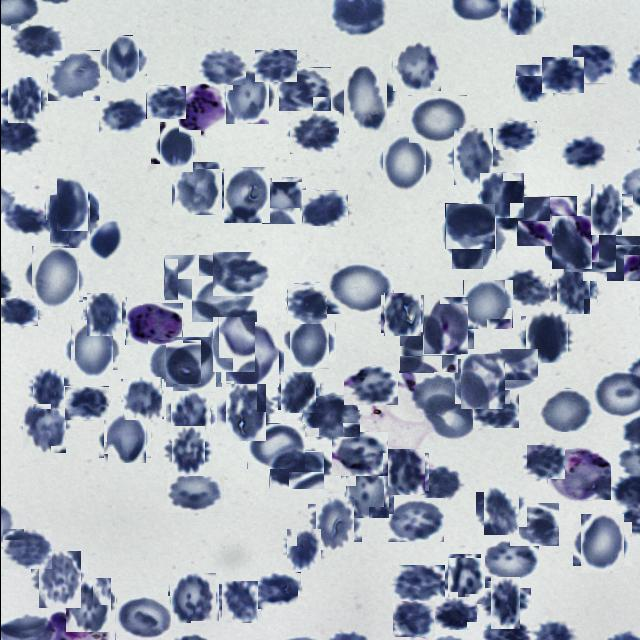difficult: (178, 84, 225, 137)
red blood cell: (326, 263, 393, 314), (222, 327, 280, 385), (26, 250, 82, 306), (337, 72, 392, 128), (191, 276, 256, 322), (163, 254, 225, 300), (407, 95, 466, 143), (416, 393, 476, 440), (470, 348, 537, 390), (448, 214, 500, 266), (46, 50, 99, 101), (246, 423, 304, 469), (581, 235, 639, 281), (378, 136, 429, 188), (576, 518, 627, 570), (221, 169, 272, 221), (391, 39, 442, 90), (480, 537, 538, 581), (212, 252, 269, 296), (222, 72, 272, 122), (66, 324, 116, 374), (173, 164, 223, 214), (18, 401, 68, 451), (168, 340, 218, 390), (62, 580, 112, 630), (34, 554, 84, 604), (456, 356, 506, 406), (398, 331, 457, 373), (387, 498, 443, 542), (331, 432, 387, 476), (114, 596, 170, 640), (301, 395, 359, 437), (462, 280, 512, 328), (208, 320, 258, 368), (166, 471, 223, 513), (538, 388, 592, 432), (342, 468, 391, 516), (277, 67, 330, 111), (147, 340, 200, 384), (284, 318, 332, 366), (168, 574, 216, 622), (449, 132, 497, 180), (221, 388, 269, 436), (444, 203, 494, 249), (100, 414, 148, 461), (523, 314, 570, 361), (548, 218, 594, 266), (288, 110, 338, 154), (563, 230, 615, 272), (46, 198, 92, 245), (391, 565, 444, 605), (311, 500, 357, 546), (509, 503, 558, 546), (343, 366, 397, 405), (268, 451, 323, 489), (10, 24, 64, 62), (1, 528, 51, 569), (479, 172, 523, 218), (168, 394, 213, 438), (260, 178, 304, 222), (98, 96, 148, 134), (479, 488, 522, 531), (50, 183, 93, 226), (443, 558, 487, 600), (198, 46, 245, 85), (412, 463, 459, 501), (559, 132, 606, 170), (154, 126, 196, 168), (384, 451, 426, 493), (166, 430, 208, 472), (410, 376, 459, 412), (504, 270, 550, 308), (120, 378, 162, 419), (552, 270, 592, 312), (484, 582, 524, 624), (586, 188, 626, 230), (301, 190, 347, 226), (286, 283, 326, 324), (381, 294, 422, 334), (256, 572, 300, 609), (102, 40, 142, 80), (3, 80, 43, 120), (572, 45, 614, 83), (472, 394, 518, 428), (63, 386, 108, 420), (85, 295, 124, 334), (220, 582, 258, 622), (392, 601, 434, 637), (541, 57, 583, 93), (433, 596, 476, 630), (284, 530, 322, 568), (279, 374, 317, 412), (514, 65, 552, 102), (28, 369, 66, 406), (525, 444, 564, 479), (145, 85, 185, 119), (254, 50, 296, 82), (494, 120, 536, 150), (503, 0, 539, 31), (0, 298, 37, 326)
ring: (418, 300, 471, 352)
trophozoite: (546, 448, 610, 500), (516, 196, 576, 246), (124, 302, 182, 345)
